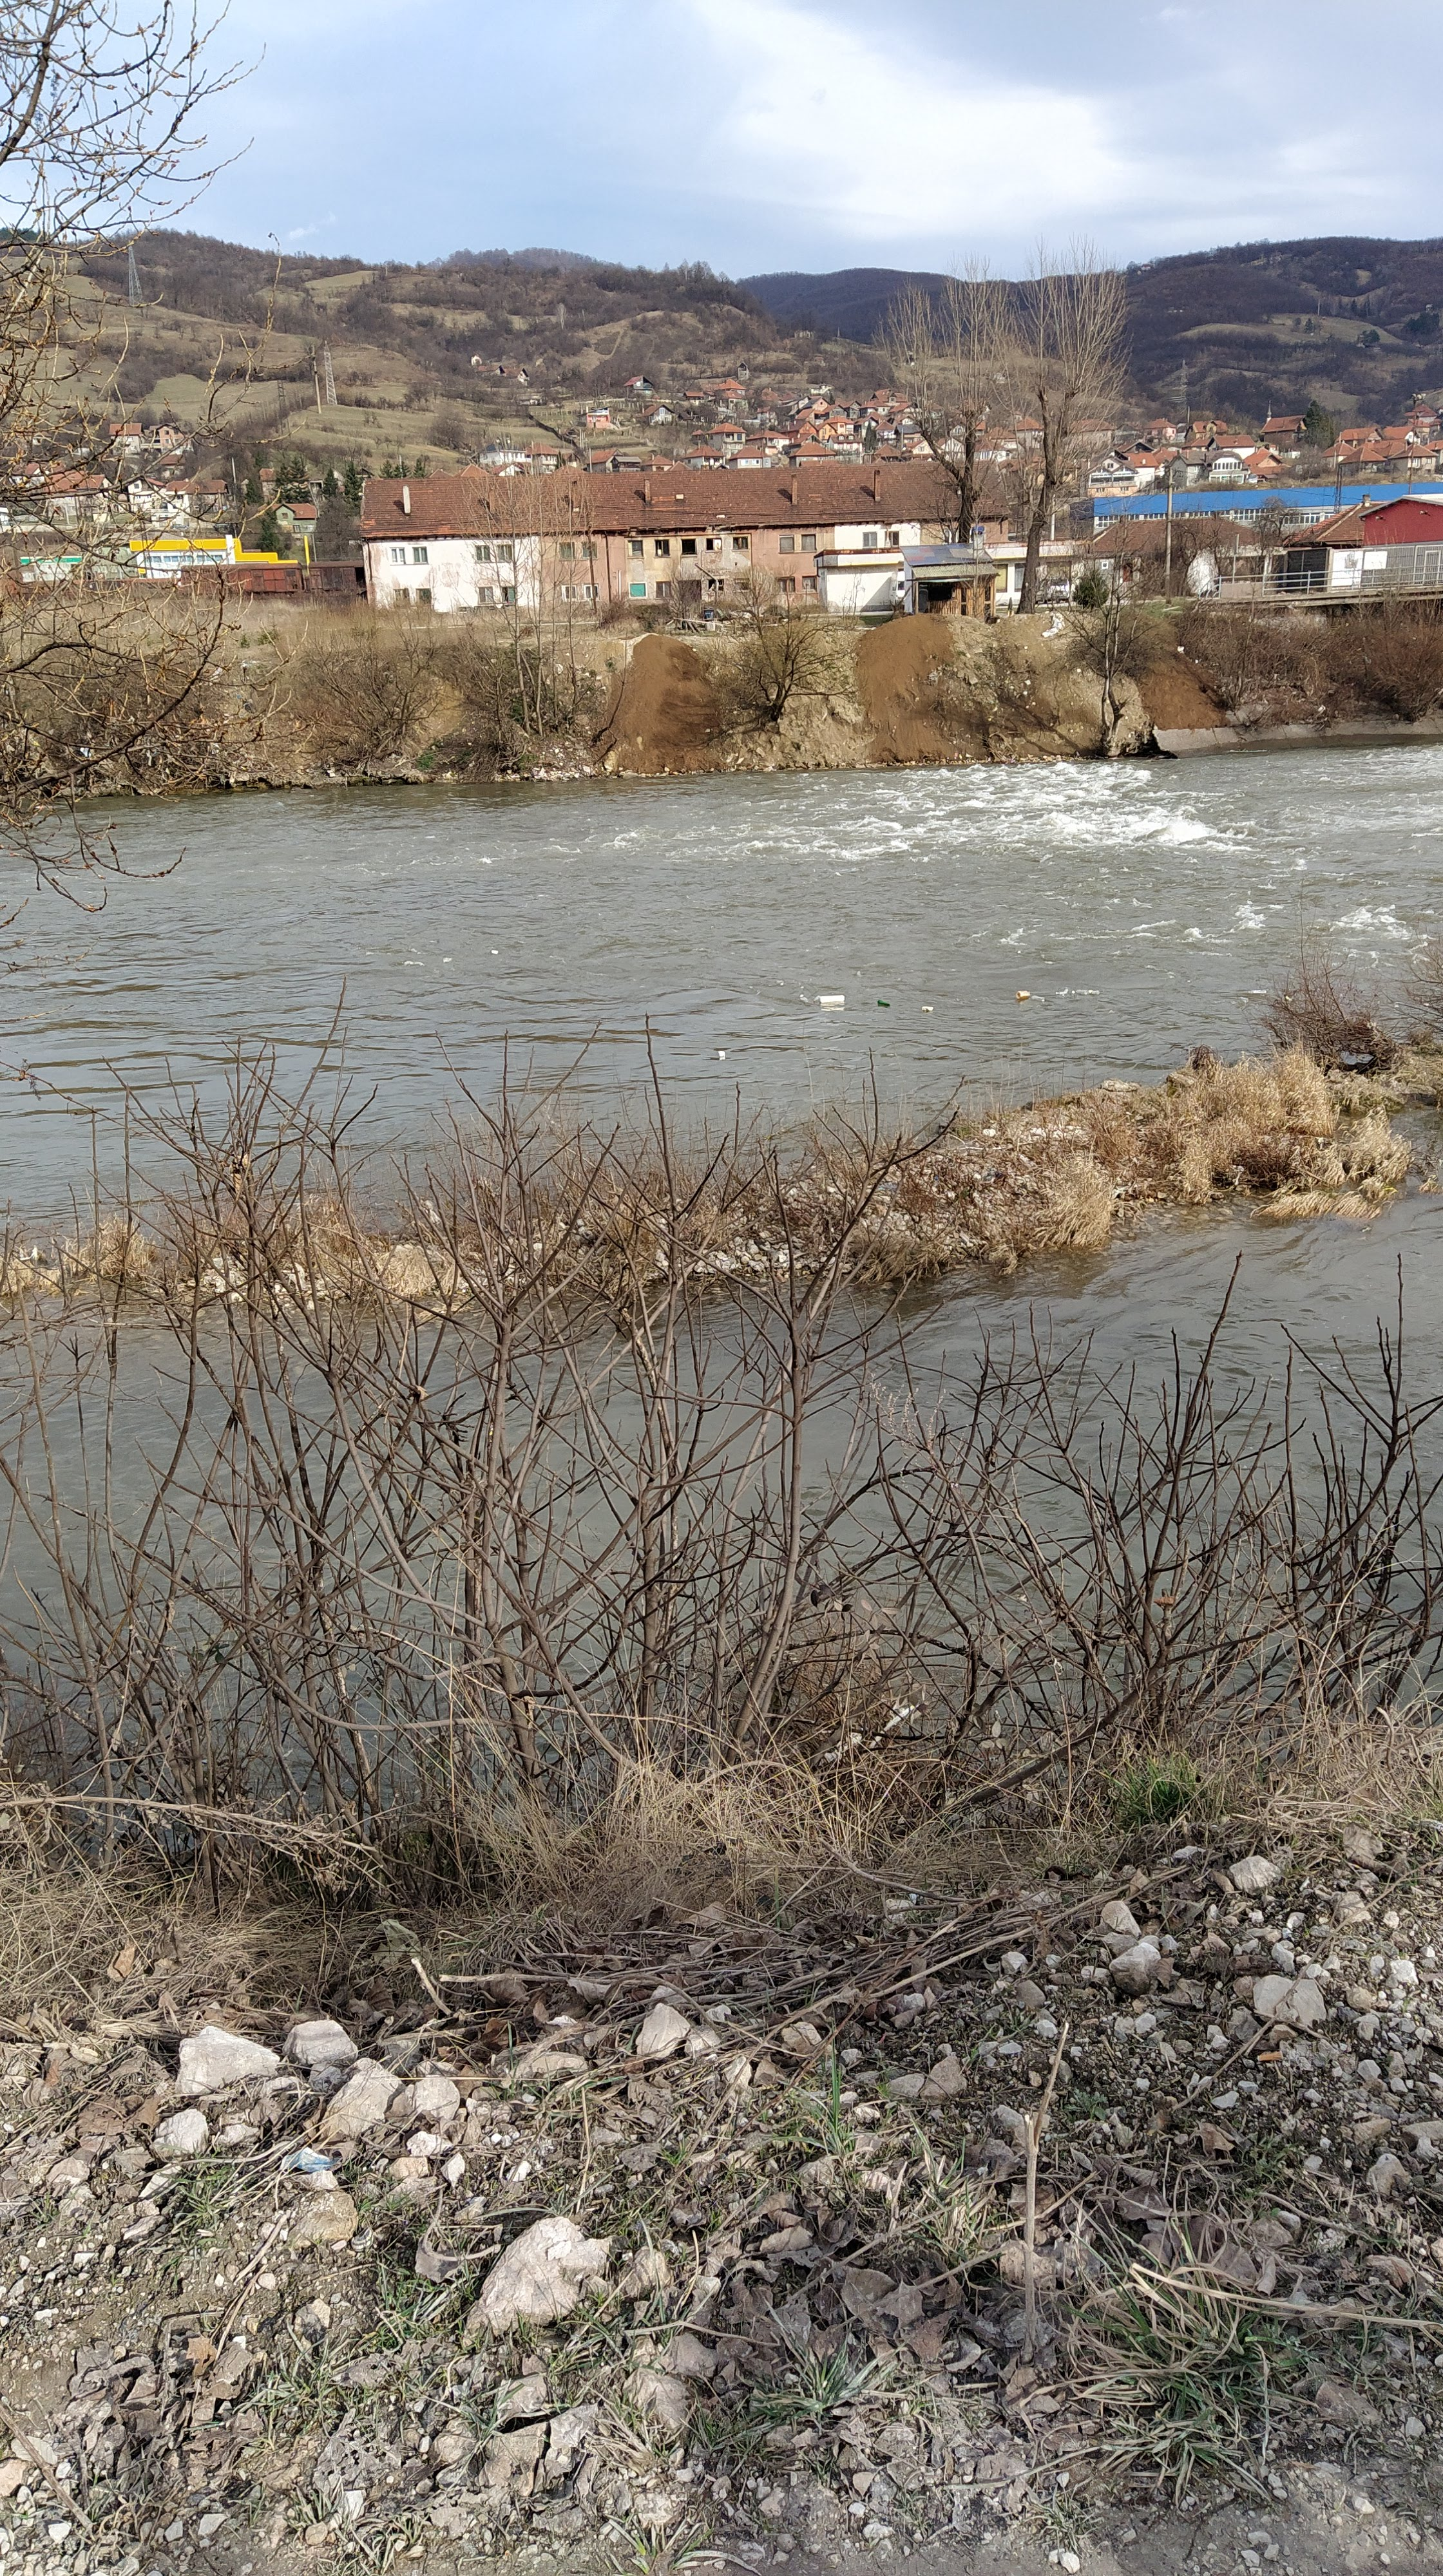Plastic Bottle: (820, 994, 845, 1001), (1016, 991, 1030, 1000), (1248, 989, 1266, 994), (800, 994, 809, 1003), (1032, 994, 1043, 1001), (878, 1000, 889, 1007), (813, 994, 820, 1003), (1089, 989, 1100, 994), (1076, 989, 1087, 994), (922, 1007, 933, 1010), (719, 1051, 724, 1058)
